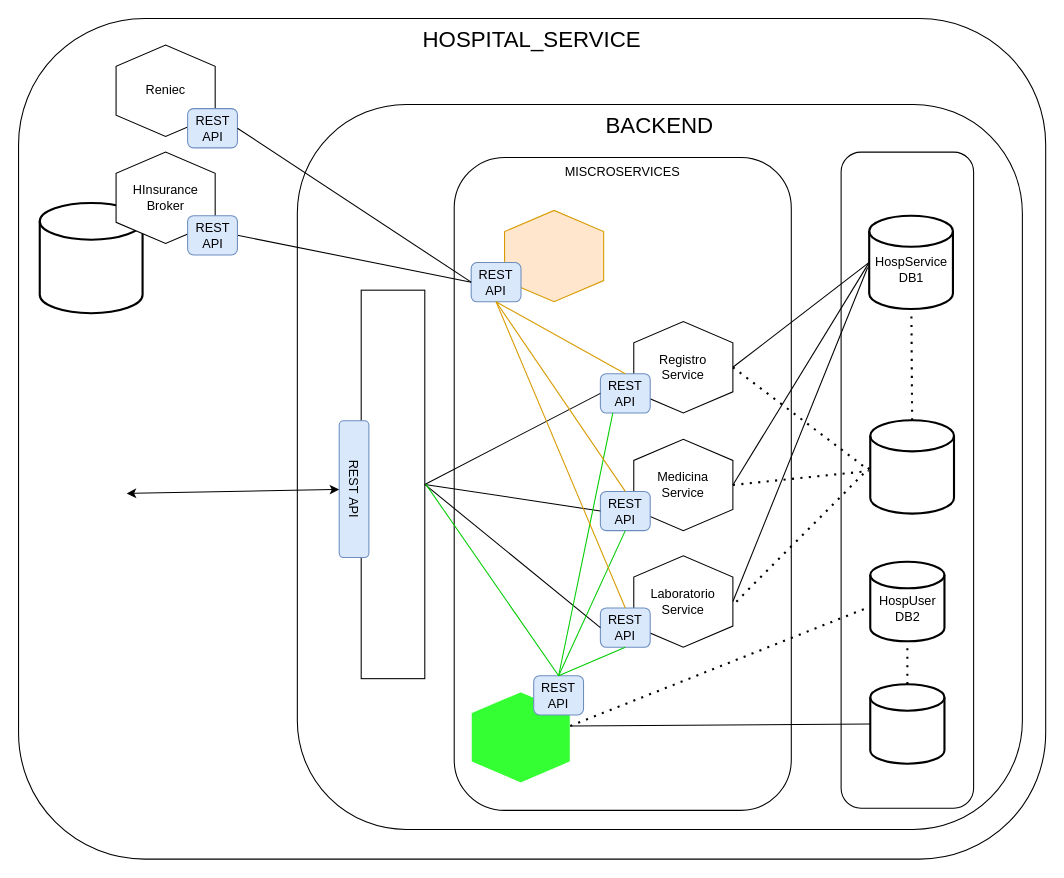
Image size: 1064x878. Some labels were removed from this diagram. Each missing label, with the box of its shape:
API GATEWAY: (360, 289, 425, 679)
DATABASE: (840, 151, 974, 808)
ExternalAPI Service: (504, 209, 604, 302)
HealthInsurance DB: (38, 201, 143, 314)
HospService DB2: (869, 419, 955, 514)
HospUser DB1: (869, 683, 945, 764)
Security Service: (470, 691, 570, 783)
